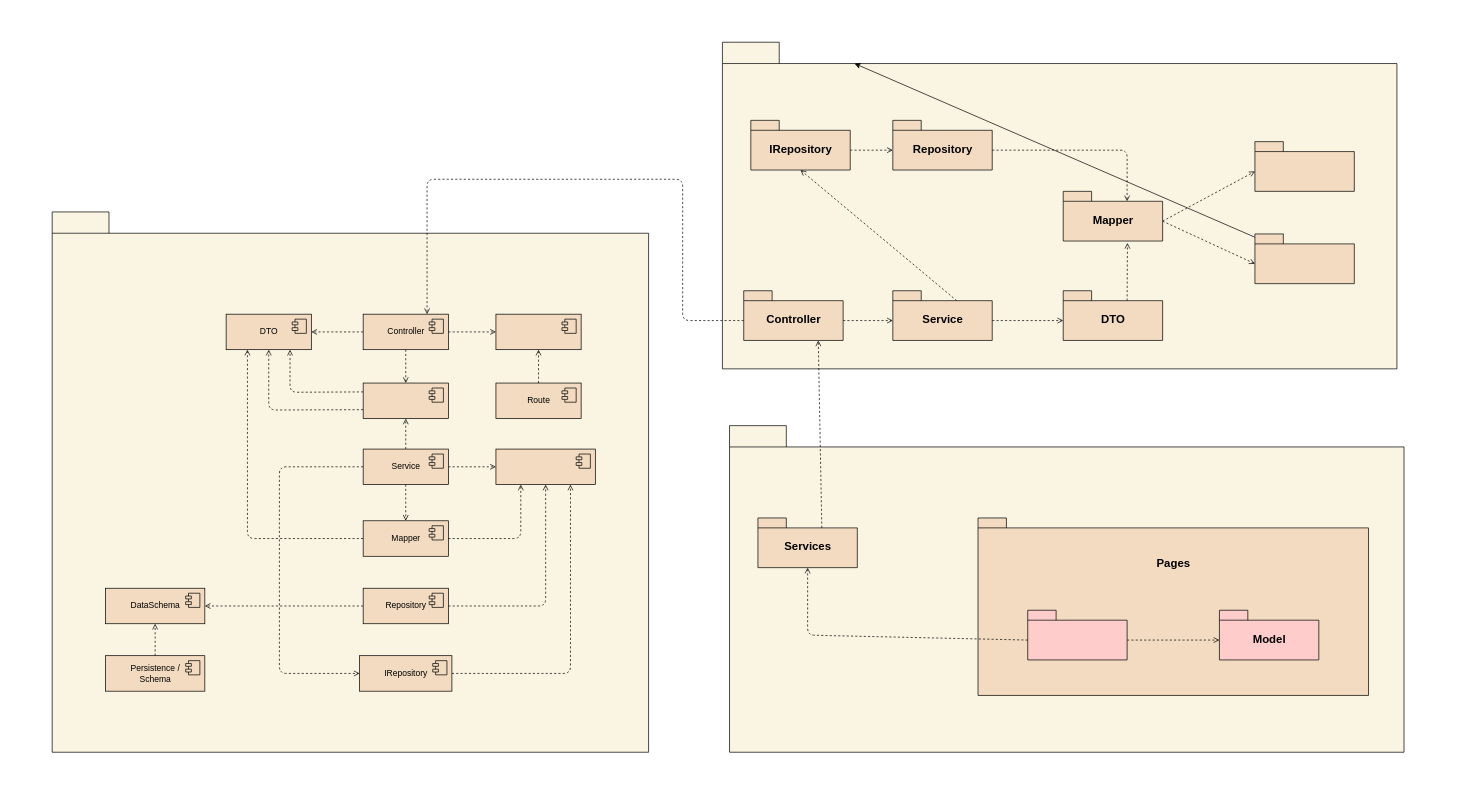
Some shapes in this 1462 by 804 pixel diagram are drawn without their labels. Here are the shapes that lost their labels. From the top down, the box of each, then its label:
(1254, 141, 1354, 191): DataModel
(722, 42, 1397, 369): Management Core
(1254, 233, 1354, 284): DoainModel
(495, 313, 581, 350): IController
(362, 382, 448, 419): IService
(51, 211, 649, 752): Medical Record Management
(495, 448, 595, 485): DomainModel
(729, 425, 1404, 752): Web SPA
(1027, 610, 1127, 660): Components
